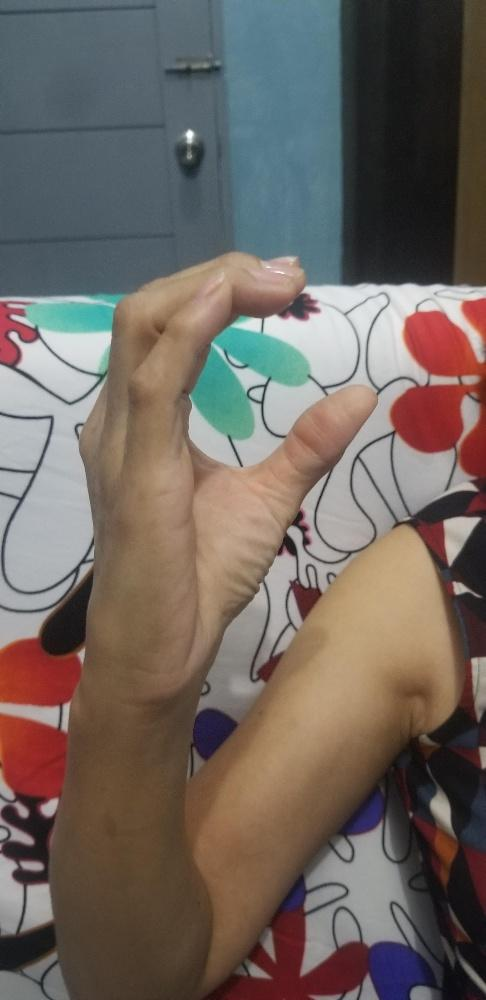c: (73, 248, 383, 700)
